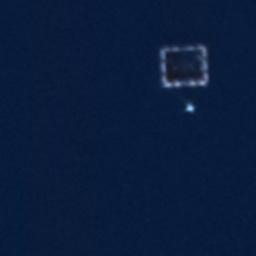square_solid: (155, 39, 213, 90)
